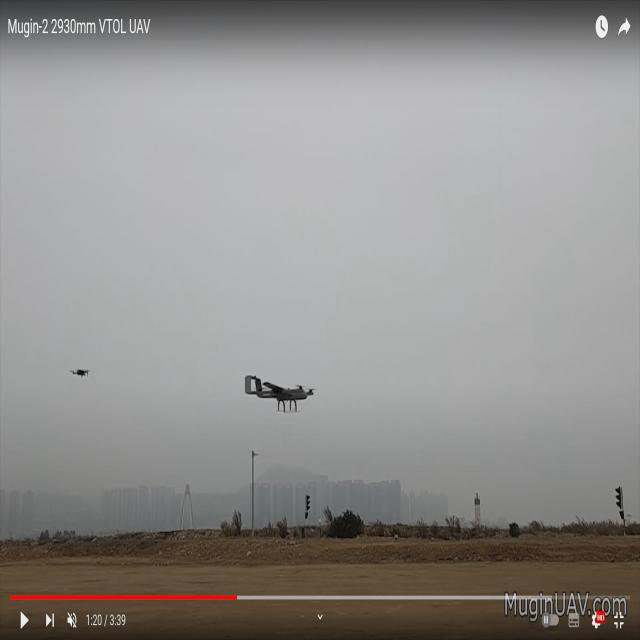iha: (277, 369, 282, 405)
